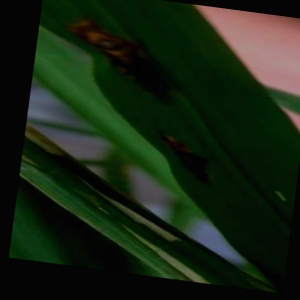Brown_Spot: (69, 24, 179, 104), (151, 122, 216, 189)
